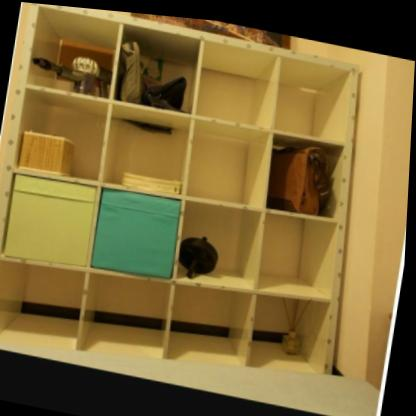Shelf: (0, 0, 385, 410)
